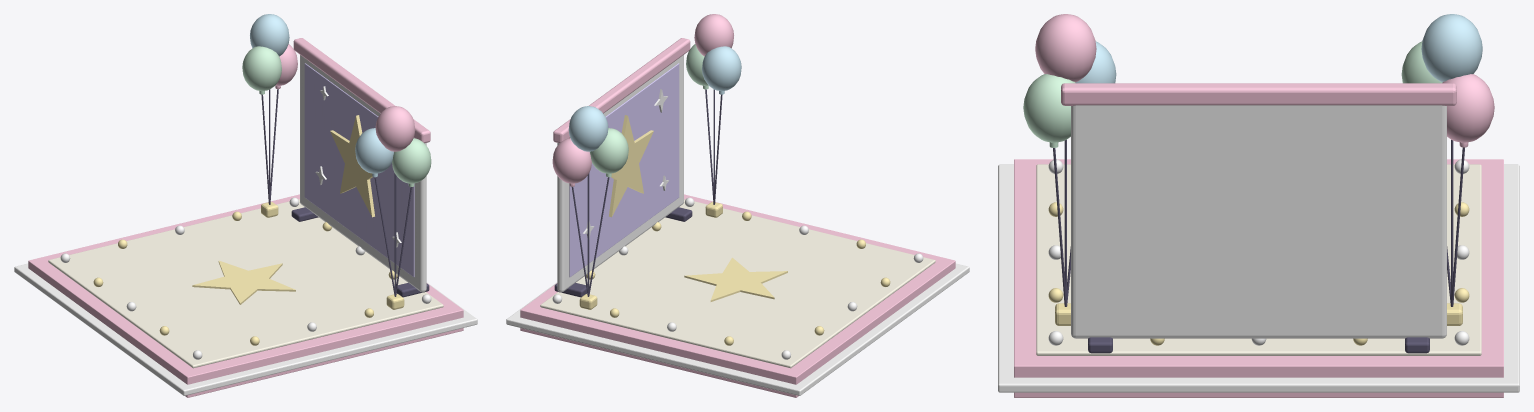
The model's file is DebutStage.fbx.
3 renders of one model, left to right at view 1: azimuth 30°, elevation 25°; view 2: azimuth 150°, elevation 25°; view 3: azimuth 270°, elevation 25°, orthographic. The views are drawn at different scales.
Parts seen in each view (by area): view 1: FFF6D6, FF9EC4, B9A6FF, FFFFFF_Neon, FFE07A, FFFFFF, A7E9B8, 9ED8F5, 1E1B2E, FFE07A_Neon; view 2: FFF6D6, FF9EC4, B9A6FF, FFFFFF_Neon, FFE07A, FFFFFF, 9ED8F5, 1E1B2E, A7E9B8, FFE07A_Neon; view 3: FFFFFF, FF9EC4, FFFFFF_Neon, FFF6D6, 9ED8F5, A7E9B8, 1E1B2E, FFE07A_Neon, FFE07A.
Part boxes in pixels (left/top/right/bottom): FFF6D6: left=48, top=199, right=443, bottom=368; FF9EC4: left=28, top=38, right=463, bottom=397; B9A6FF: left=304, top=63, right=414, bottom=277; FFFFFF_Neon: left=14, top=197, right=477, bottom=395; FFE07A: left=192, top=115, right=404, bottom=309; FFFFFF: left=300, top=55, right=426, bottom=292; A7E9B8: left=242, top=46, right=431, bottom=186; 9ED8F5: left=250, top=14, right=393, bottom=177; 1E1B2E: left=261, top=89, right=429, bottom=297; FFE07A_Neon: left=93, top=211, right=397, bottom=345; FFF6D6: left=540, top=199, right=935, bottom=368; FF9EC4: left=520, top=14, right=955, bottom=397; B9A6FF: left=569, top=63, right=679, bottom=277; FFFFFF_Neon: left=506, top=197, right=969, bottom=395; FFE07A: left=579, top=115, right=787, bottom=309; FFFFFF: left=557, top=55, right=683, bottom=292; 9ED8F5: left=568, top=46, right=741, bottom=152; 1E1B2E: left=554, top=89, right=722, bottom=297; A7E9B8: left=590, top=44, right=708, bottom=177; FFE07A_Neon: left=586, top=211, right=890, bottom=345; FFFFFF: left=1071, top=105, right=1446, bottom=338; FF9EC4: left=1014, top=14, right=1503, bottom=397; FFFFFF_Neon: left=998, top=159, right=1519, bottom=392; FFF6D6: left=1036, top=164, right=1481, bottom=355; 9ED8F5: left=1075, top=14, right=1482, bottom=83; A7E9B8: left=1023, top=41, right=1442, bottom=147; 1E1B2E: left=1053, top=140, right=1464, bottom=353; FFE07A_Neon: left=1048, top=202, right=1469, bottom=345; FFE07A: left=1055, top=303, right=1462, bottom=325.
Bounding box in the file's own units: 527 × 383 × 527.
